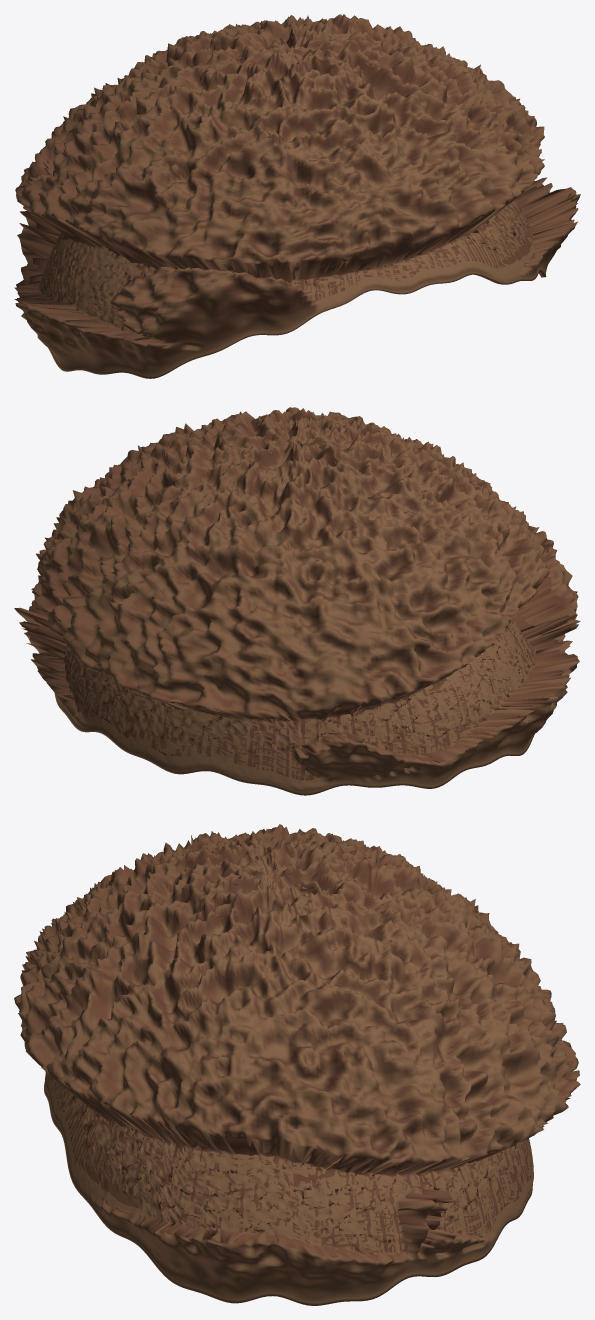
Rendered from Highlights-5fcf2b980144252-hair.glb.
3 renders of one model, top to bottom at view 1: azimuth 30°, elevation 25°; view 2: azimuth 150°, elevation 25°; view 3: azimuth 270°, elevation 25°, orthographic. The views are drawn at different scales.
Parts seen in each view (by area): view 1: 226 hair / Hair252 / dense natural coil groups.001; view 2: 226 hair / Hair252 / dense natural coil groups.001; view 3: 226 hair / Hair252 / dense natural coil groups.001.
Part boxes in pixels (bbox=[...]): 226 hair / Hair252 / dense natural coil groups.001: bbox=[14, 14, 580, 378]; 226 hair / Hair252 / dense natural coil groups.001: bbox=[14, 407, 580, 795]; 226 hair / Hair252 / dense natural coil groups.001: bbox=[14, 824, 580, 1305].
Size of the model in its own units: 1.12 by 0.548 by 0.8804.
1 material, 1 textured.
